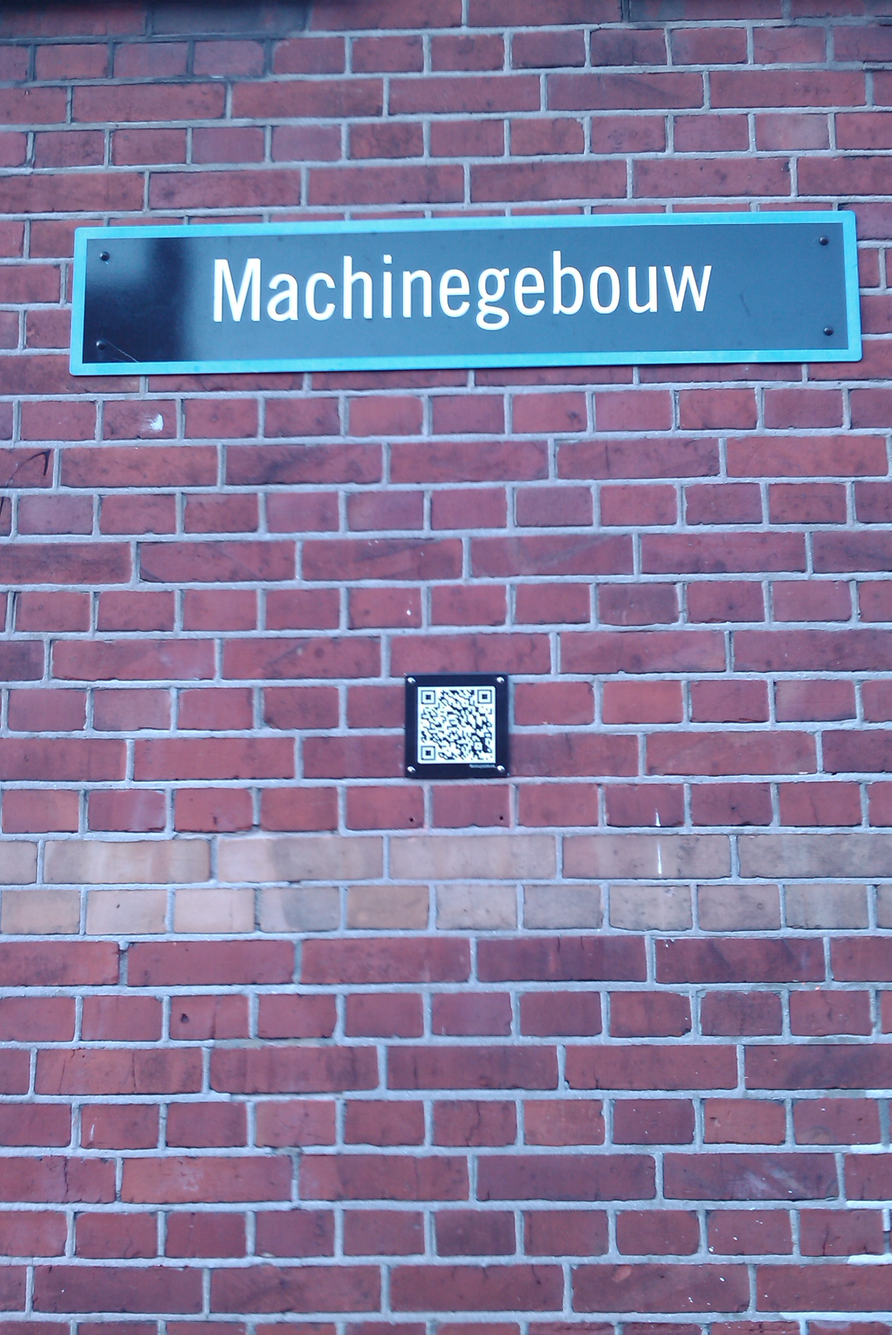QR-CODE: (420, 689, 492, 760)
